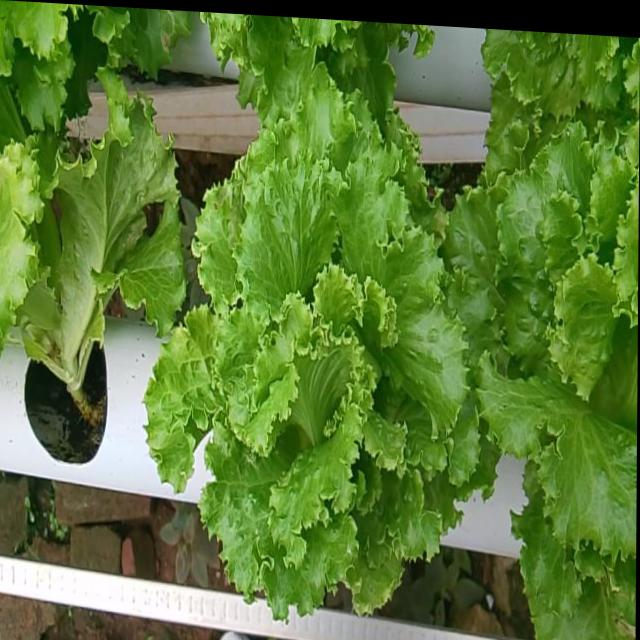Mature: (137, 99, 472, 636), (439, 134, 638, 581)
